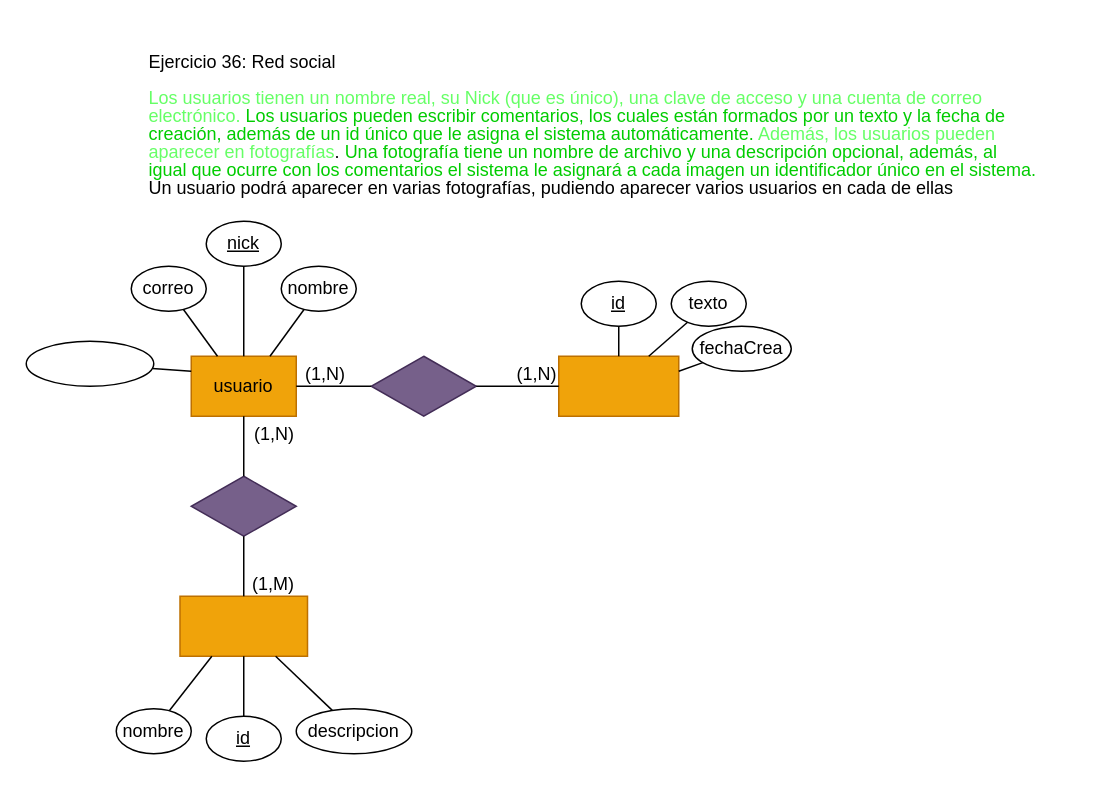
The diagram is 1118 pixels wide and 788 high, and some of its shapes have lost their labels. The shapes that lost their labels are listed below. From the top down, each one's centre as x and y in pixels, then its label:
[89,363]: claveAcceso
[423,385]: escribe
[618,385]: comentario
[243,505]: aparece
[243,625]: fotografia
